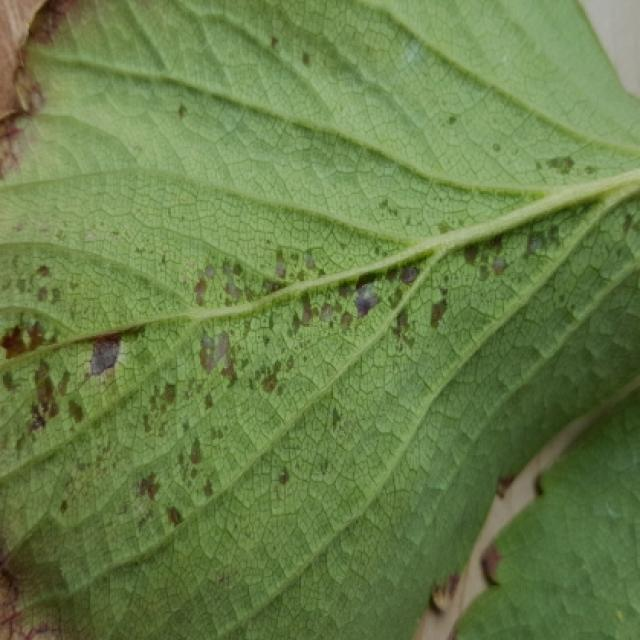Angular Leafspot: (2, 0, 640, 638)
